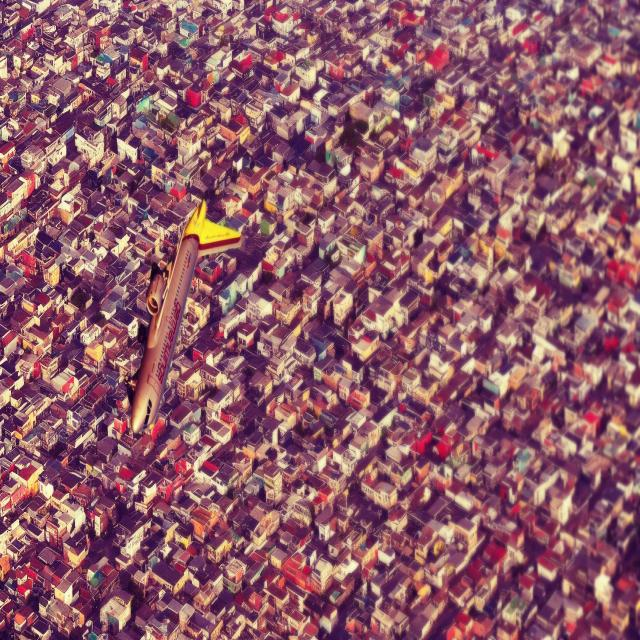airplane: (127, 196, 242, 436)
